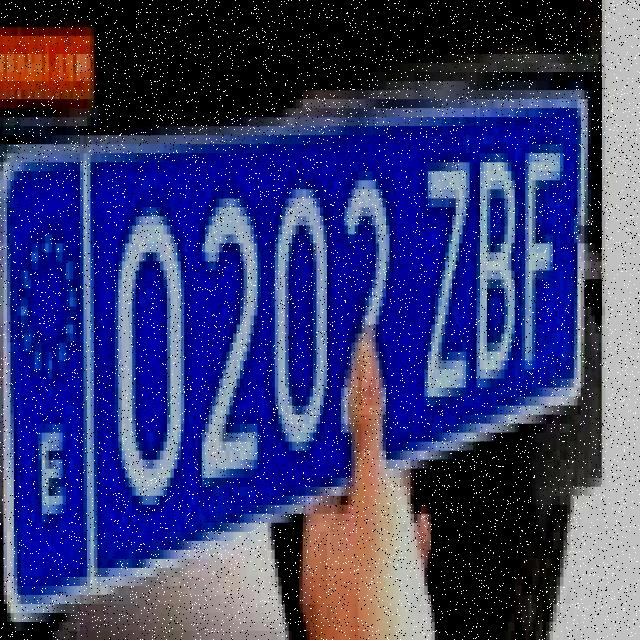licenseplate: (2, 95, 590, 630)
